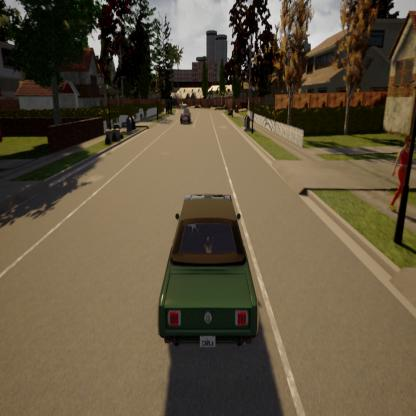Cars: (140, 169, 277, 365), (176, 95, 195, 131)
Pedestrian: (382, 121, 416, 219)
